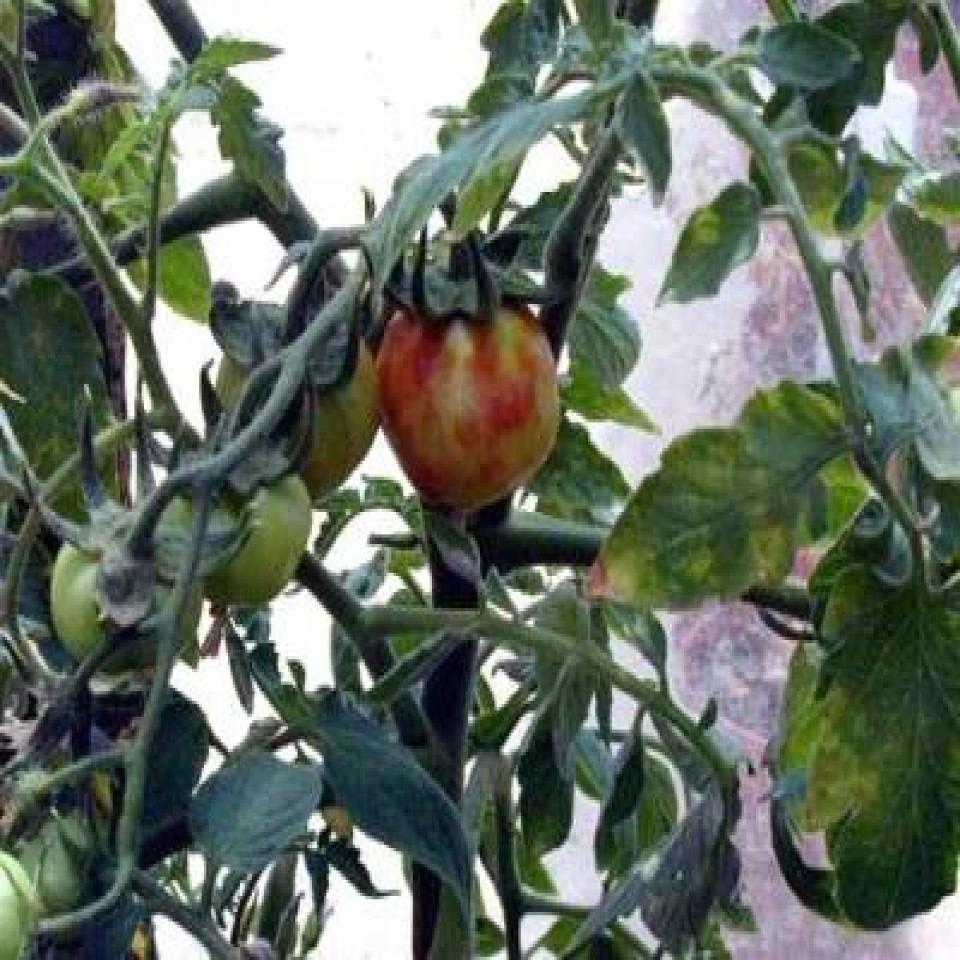Spotted wilt Virus: (377, 307, 562, 512)
